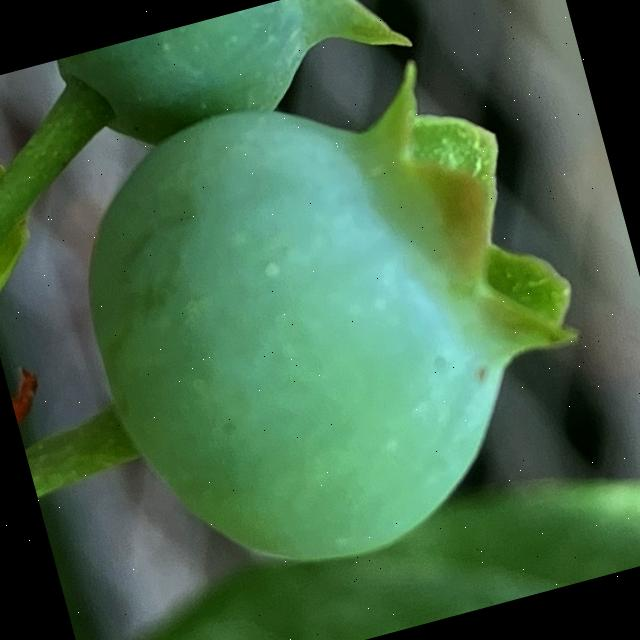Blueberries: (41, 29, 628, 610), (52, 0, 422, 163)
